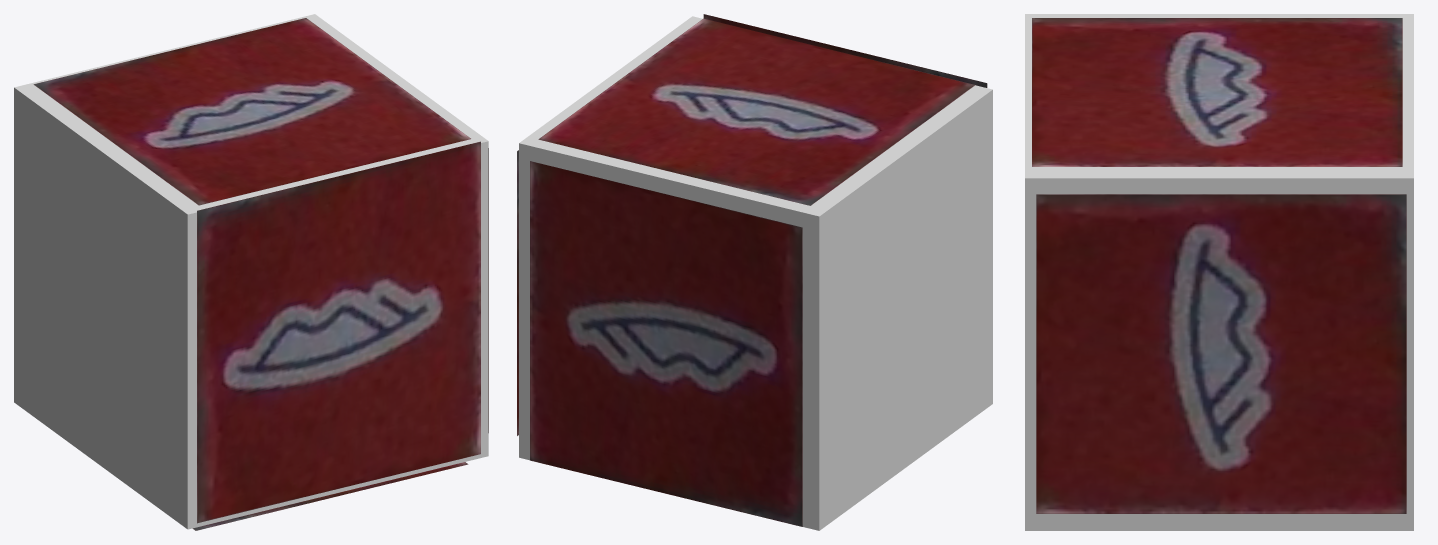
The picture shows the model from 3 angles, left to right: view 1: azimuth 30°, elevation 25°; view 2: azimuth 150°, elevation 25°; view 3: azimuth 270°, elevation 25°; orthographic projection. The views are drawn at different scales.
Parts seen in each view (by area): view 1: R2.001, Link33, R2, R2.003; view 2: R2.004, Link33, R2, R2.001, R2.002; view 3: R2.002, R2, Link33.
Part boxes in pixels (box(x1,y1,x2,y2)): R2.001: box(197, 141, 480, 523); Link33: box(14, 14, 488, 529); R2: box(33, 18, 470, 205); R2.003: box(192, 462, 468, 530); R2.004: box(530, 161, 802, 526); Link33: box(519, 16, 992, 530); R2: box(538, 18, 975, 205); R2.001: box(703, 14, 987, 87); R2.002: box(517, 150, 518, 435); R2.002: box(1036, 194, 1406, 513); R2: box(1032, 18, 1402, 166); Link33: box(1025, 14, 1413, 530).
Bounding box in the file's own units: 0.356 × 0.3623 × 0.3583.
1 material, 1 textured.
